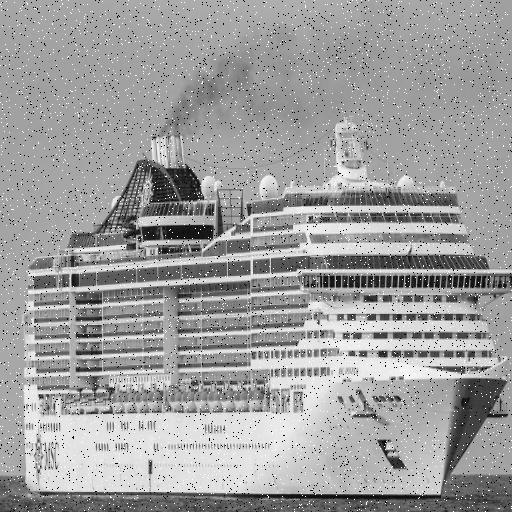cruises: (19, 110, 512, 510)
